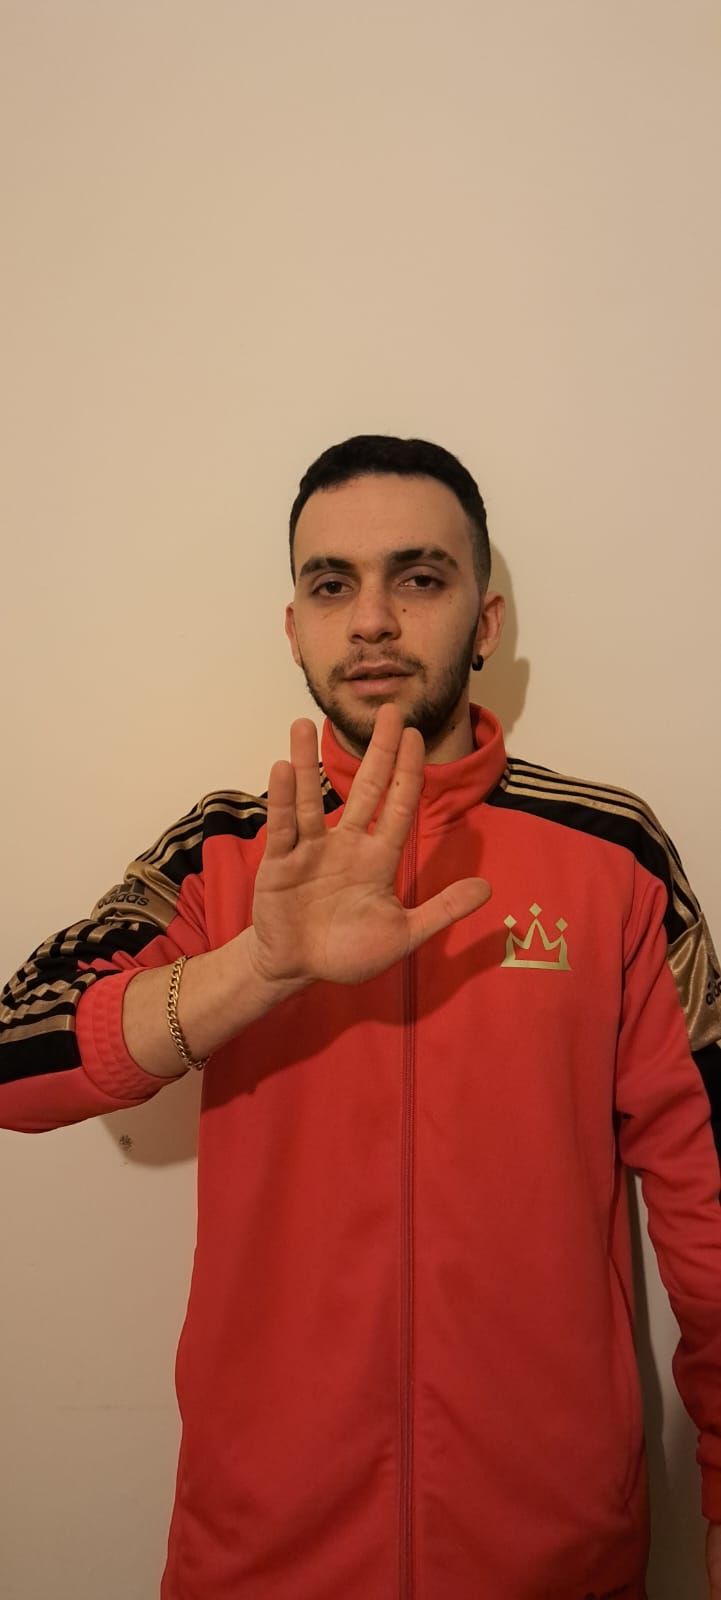alien: (256, 698, 500, 989)
